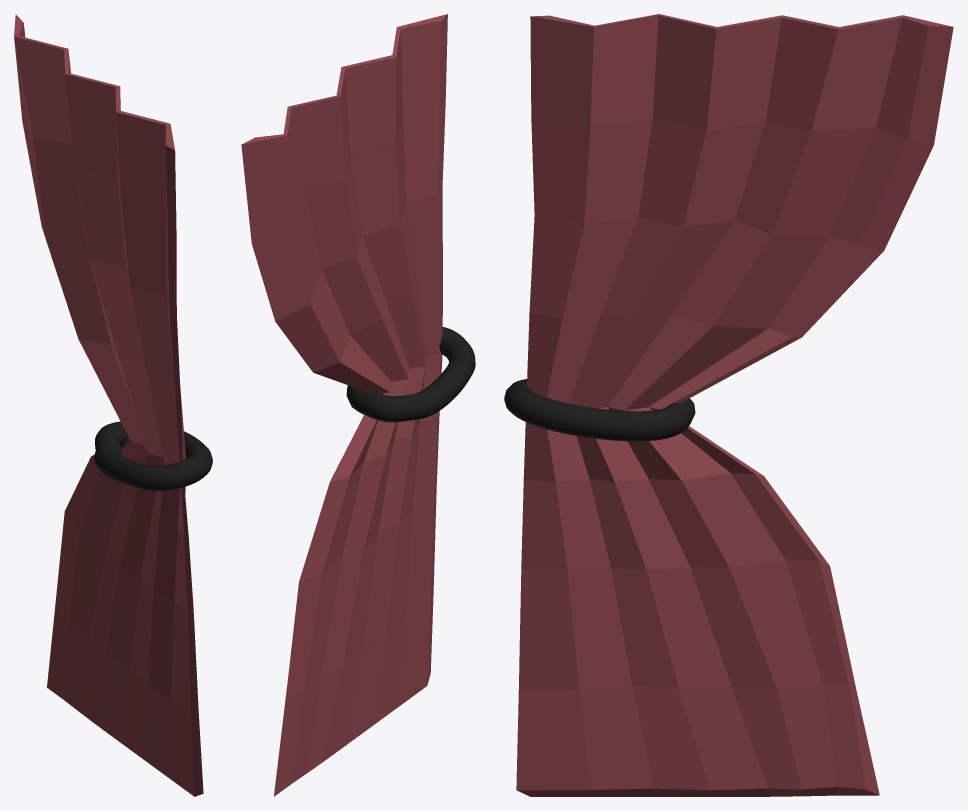
File: cortina.fbx
3 renders of one model, left to right at view 1: azimuth 30°, elevation 25°; view 2: azimuth 150°, elevation 25°; view 3: azimuth 270°, elevation 25°, orthographic. The views are drawn at different scales.
Parts seen in each view (by area): view 1: Plane, BézierCurve; view 2: Plane, BézierCurve; view 3: Plane, BézierCurve.
Boxes of the visible parts, x1,y1,x2,y2 form: Plane: [14, 14, 203, 796]; BézierCurve: [94, 421, 212, 491]; Plane: [241, 14, 447, 796]; BézierCurve: [346, 327, 475, 422]; Plane: [516, 14, 953, 796]; BézierCurve: [504, 379, 695, 441].
Size of the model in its own units: 213 by 1522 by 803.
